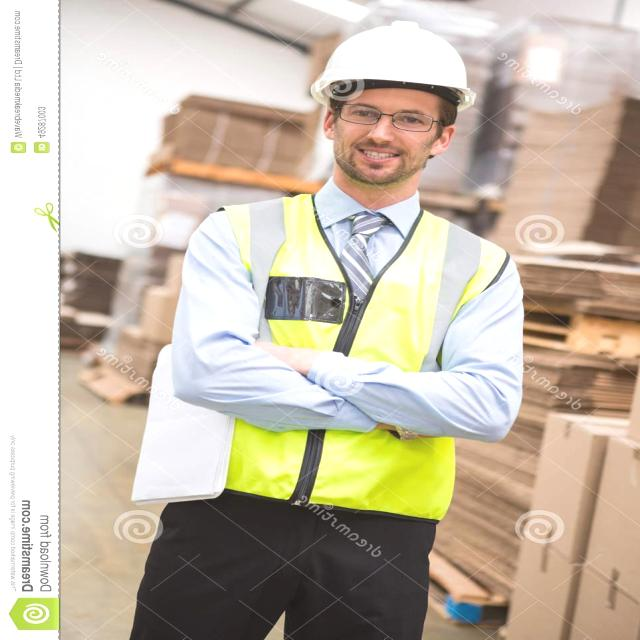face_nomask: (315, 87, 453, 187)
glasses: (334, 99, 436, 137)
head_helmet: (304, 14, 483, 102)
person: (114, 10, 573, 634)
vest: (109, 199, 532, 502)
